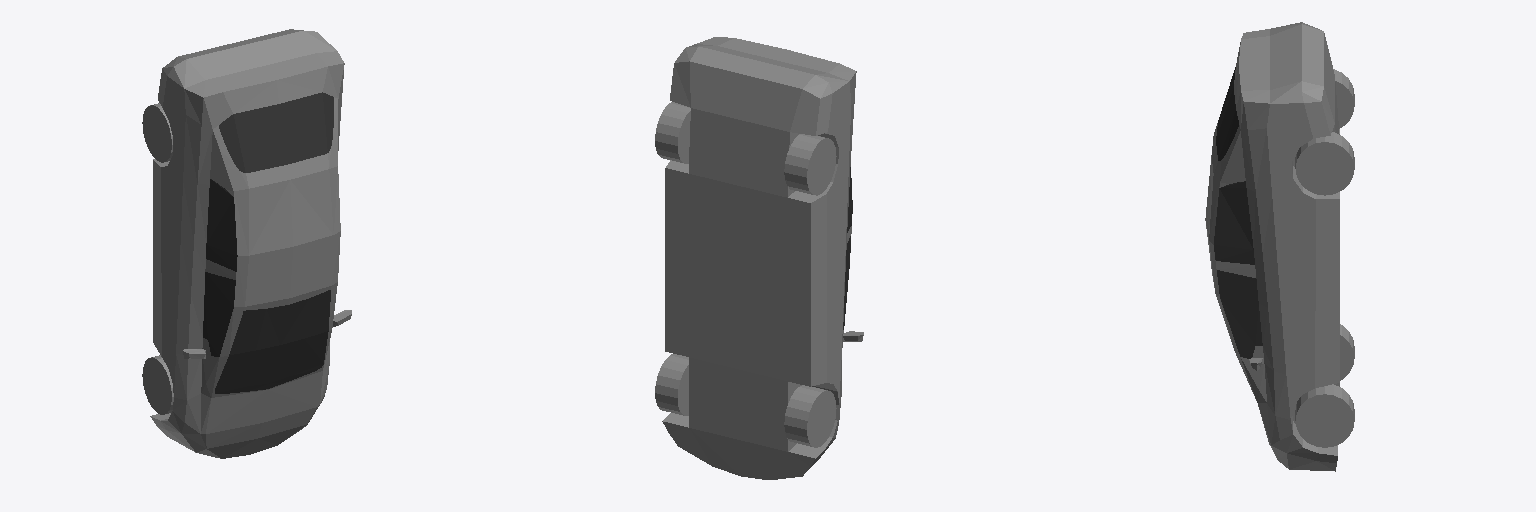
The model's file is Hybrid.obj.
The picture shows the model from 3 angles: view 1: azimuth 30°, elevation 25°; view 2: azimuth 150°, elevation 25°; view 3: azimuth 270°, elevation 25°; orthographic projection.
Visible parts, largest first — view 1: Hybrid, Hybrid_Windows, Wheel_Front_Right, Wheels_Rear; view 2: Hybrid, Wheels_Rear, Wheel_Front_Right, Wheel_Front_Left_; view 3: Hybrid, Hybrid_Windows, Wheels_Rear, Wheel_Front_Left_, Wheel_Front_Right.
Boxes of the visible parts, x1=… form: Hybrid: x1=150, y1=29, x2=351, y2=458; Hybrid_Windows: x1=203, y1=92, x2=333, y2=393; Wheel_Front_Right: x1=142, y1=355, x2=173, y2=414; Wheels_Rear: x1=142, y1=103, x2=172, y2=162; Hybrid: x1=662, y1=37, x2=863, y2=479; Wheels_Rear: x1=655, y1=102, x2=836, y2=195; Wheel_Front_Right: x1=784, y1=385, x2=836, y2=447; Wheel_Front_Left_: x1=655, y1=354, x2=688, y2=415; Hybrid: x1=1205, y1=22, x2=1339, y2=471; Hybrid_Windows: x1=1214, y1=67, x2=1262, y2=358; Wheels_Rear: x1=1295, y1=69, x2=1354, y2=195; Wheel_Front_Left_: x1=1295, y1=384, x2=1354, y2=447; Wheel_Front_Right: x1=1340, y1=324, x2=1354, y2=380.
Size of the model in its own units: 201 by 462 by 154.